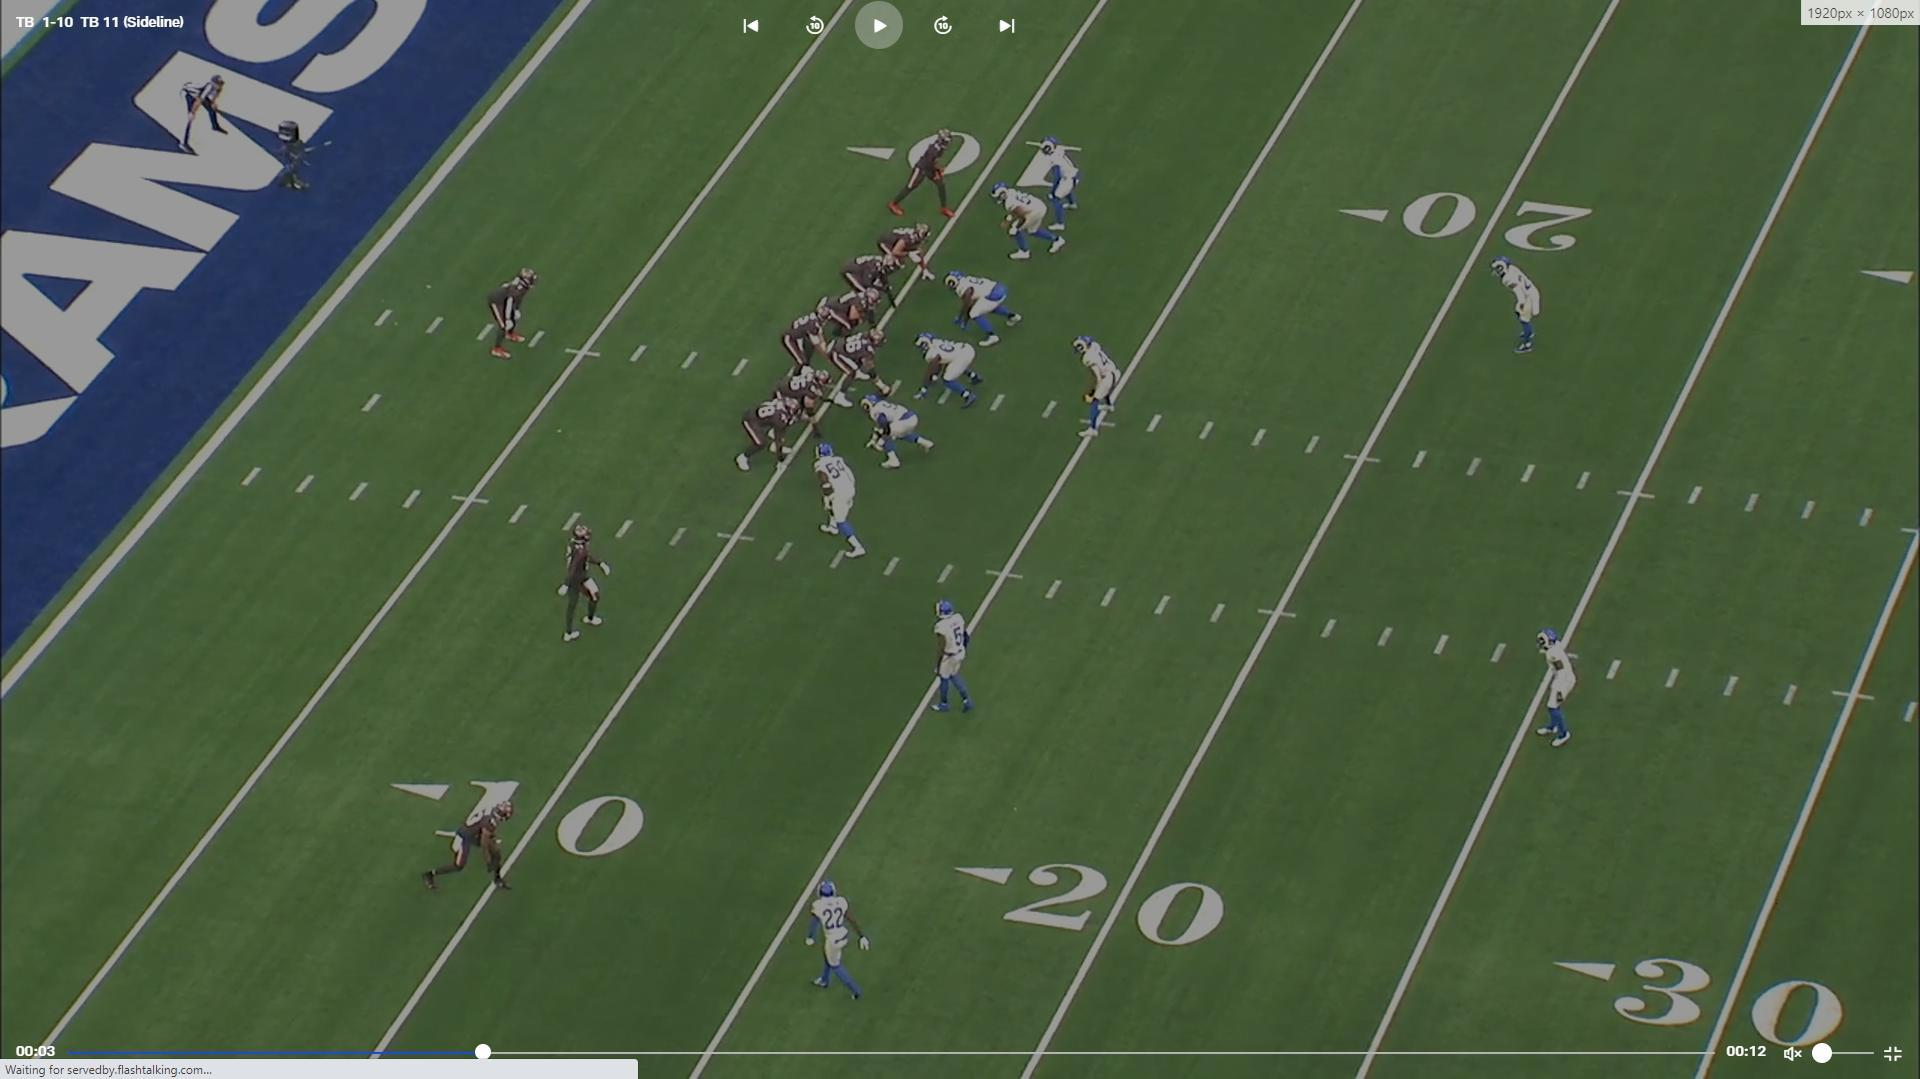player: (418, 784, 520, 899), (804, 878, 875, 1007), (553, 511, 609, 649), (815, 436, 875, 564), (884, 126, 956, 223), (928, 595, 982, 722), (941, 265, 1021, 347), (993, 179, 1070, 262), (1537, 623, 1586, 753), (859, 392, 935, 475), (1488, 252, 1545, 359), (727, 395, 798, 480), (1070, 330, 1122, 445), (911, 329, 983, 409), (486, 263, 544, 362), (825, 327, 891, 403), (1040, 135, 1083, 240), (835, 248, 900, 312), (778, 365, 841, 431), (819, 284, 886, 343), (876, 217, 934, 283), (786, 303, 835, 378)
ref: (180, 69, 232, 159)
